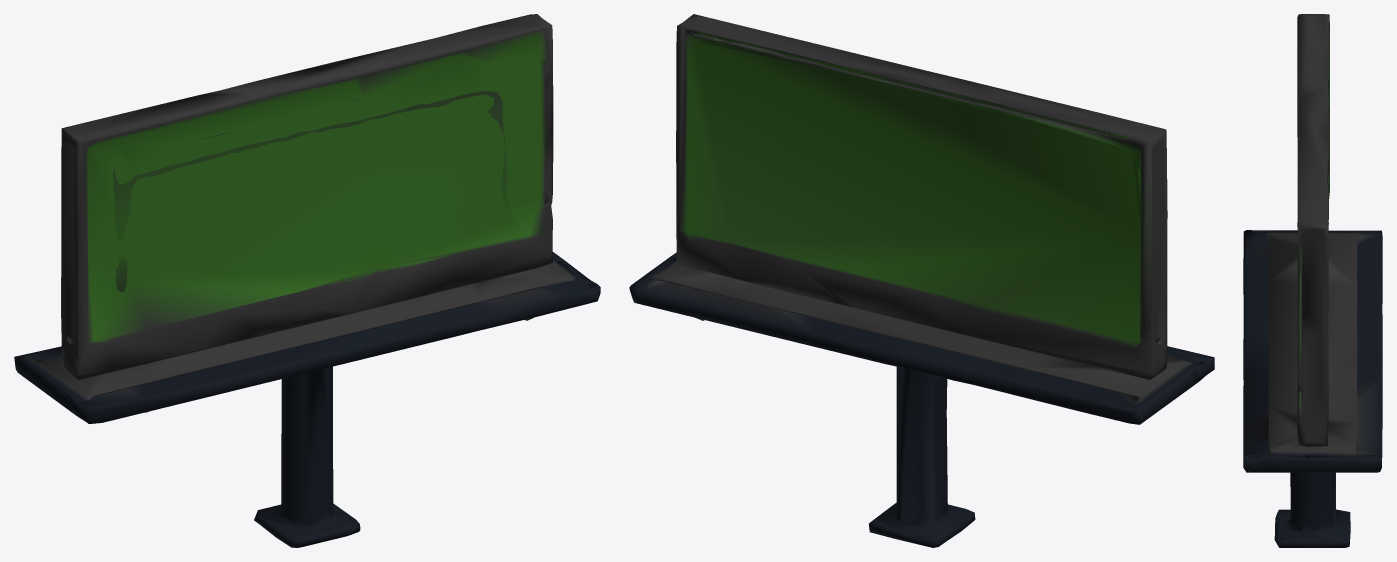
The model's file is gen3d-billboard-lod1.glb.
The picture shows the model from 3 angles, left to right: view 1: azimuth 30°, elevation 25°; view 2: azimuth 150°, elevation 25°; view 3: azimuth 270°, elevation 25°; orthographic projection. The views are drawn at different scales.
Visible parts, largest first — view 1: part_0; view 2: part_0; view 3: part_0.
Boxes of the visible parts, bbox=[...] form: part_0: bbox=[14, 14, 600, 547]; part_0: bbox=[629, 14, 1214, 547]; part_0: bbox=[1243, 14, 1382, 547].
Bounding box in the file's own units: 1.19 × 1 × 0.306.
